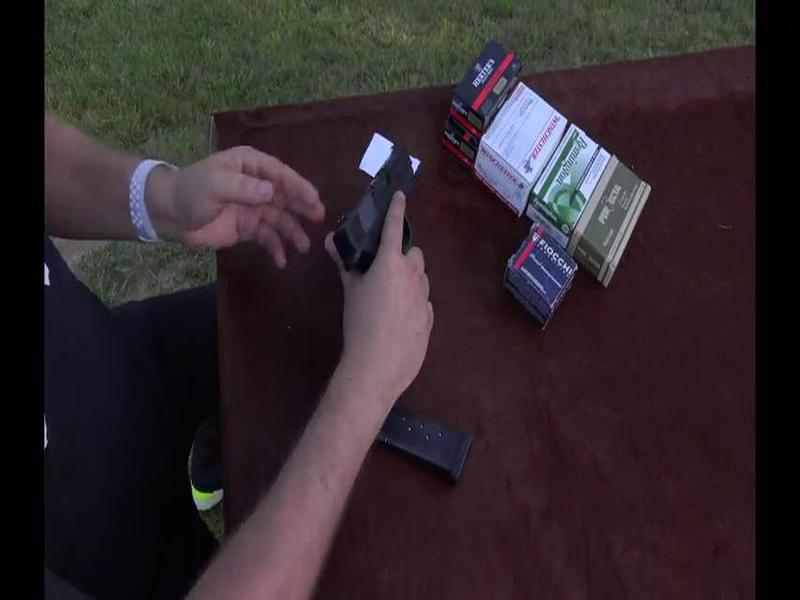Pistola: (309, 134, 435, 328)
